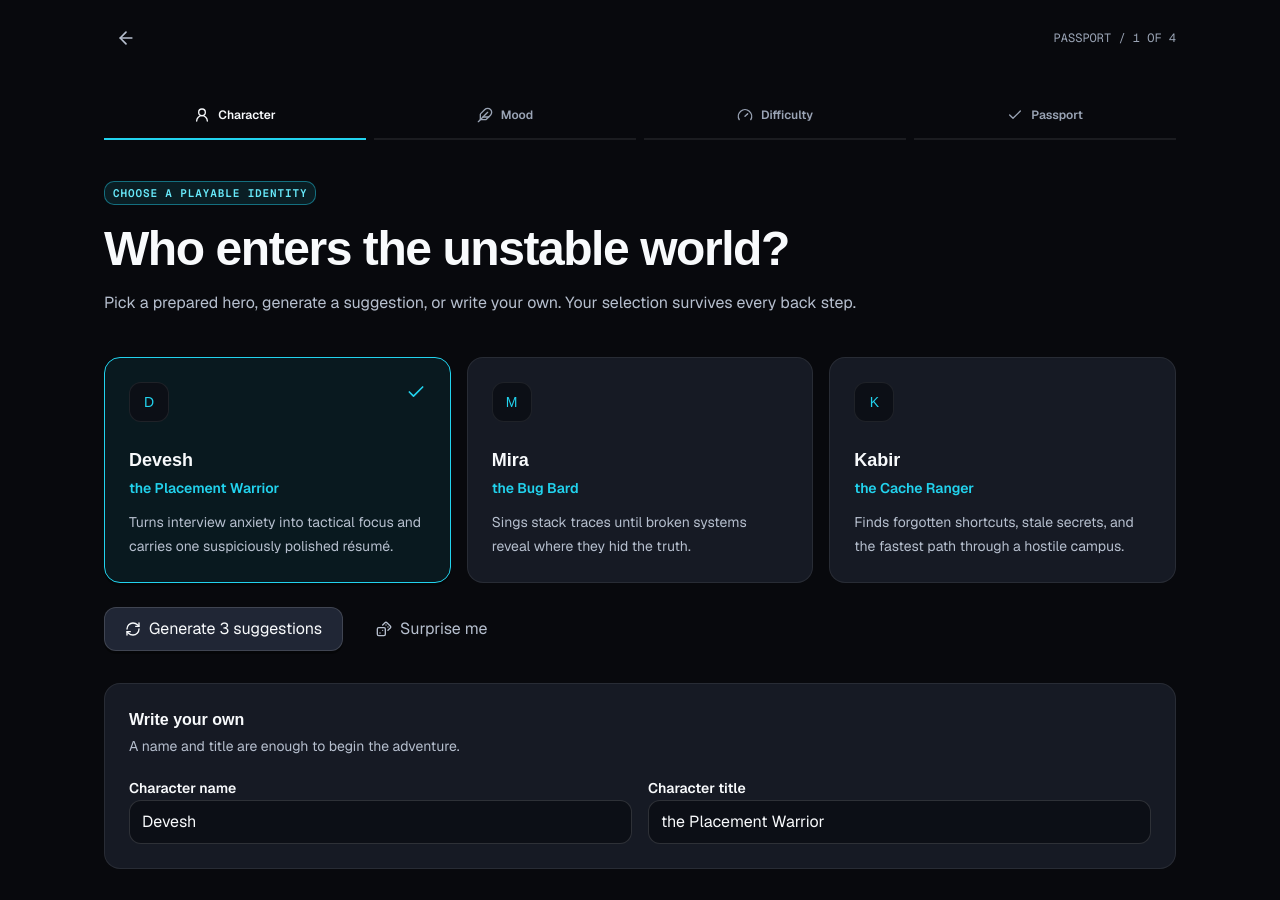
Scenario: CharacterCreator › validates custom character fields
Clear the field labelled "Character name" at (380, 822), box [129,800,632,844]
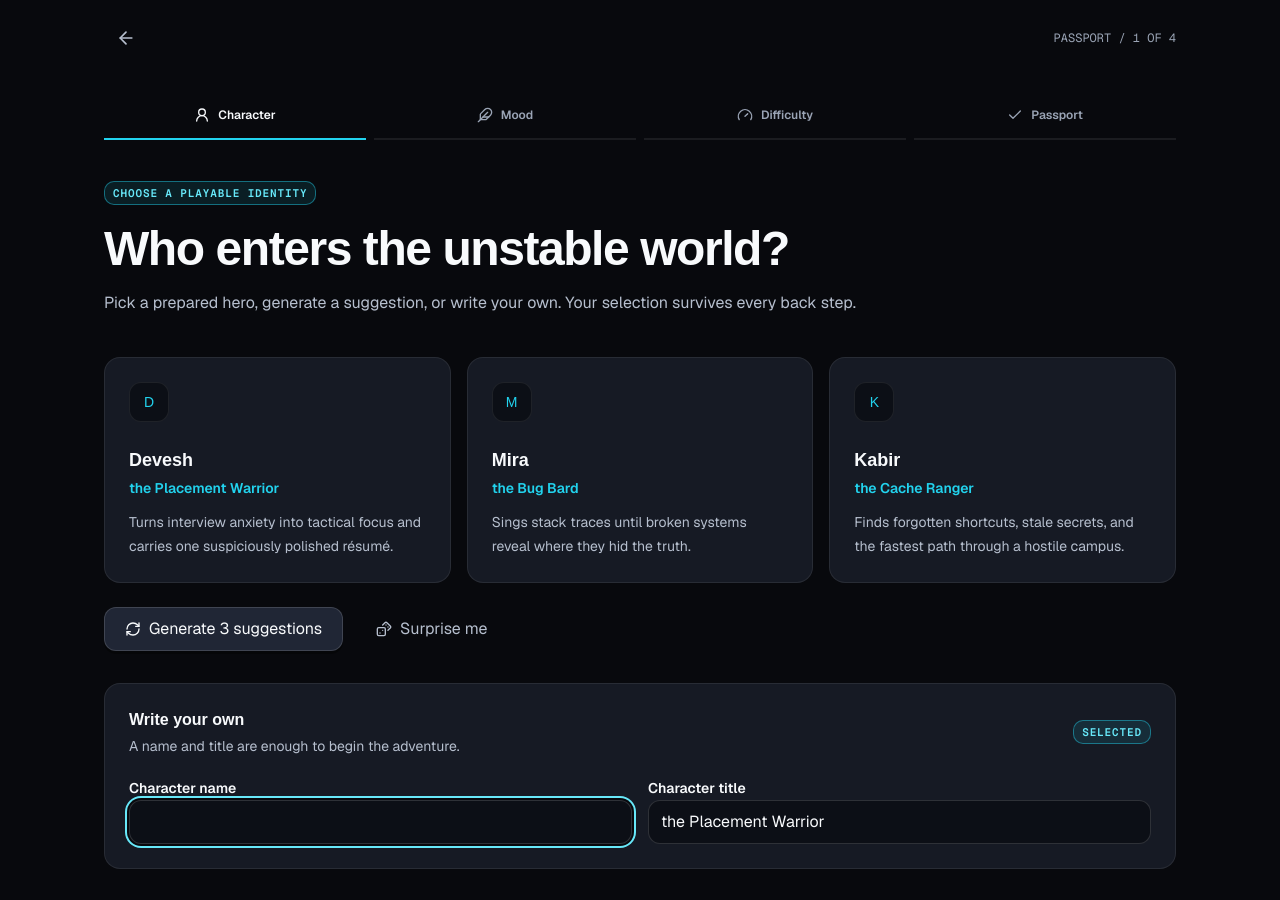
Clear the field labelled "Character title" at (900, 822), box [648,800,1151,844]
(page scrolled)
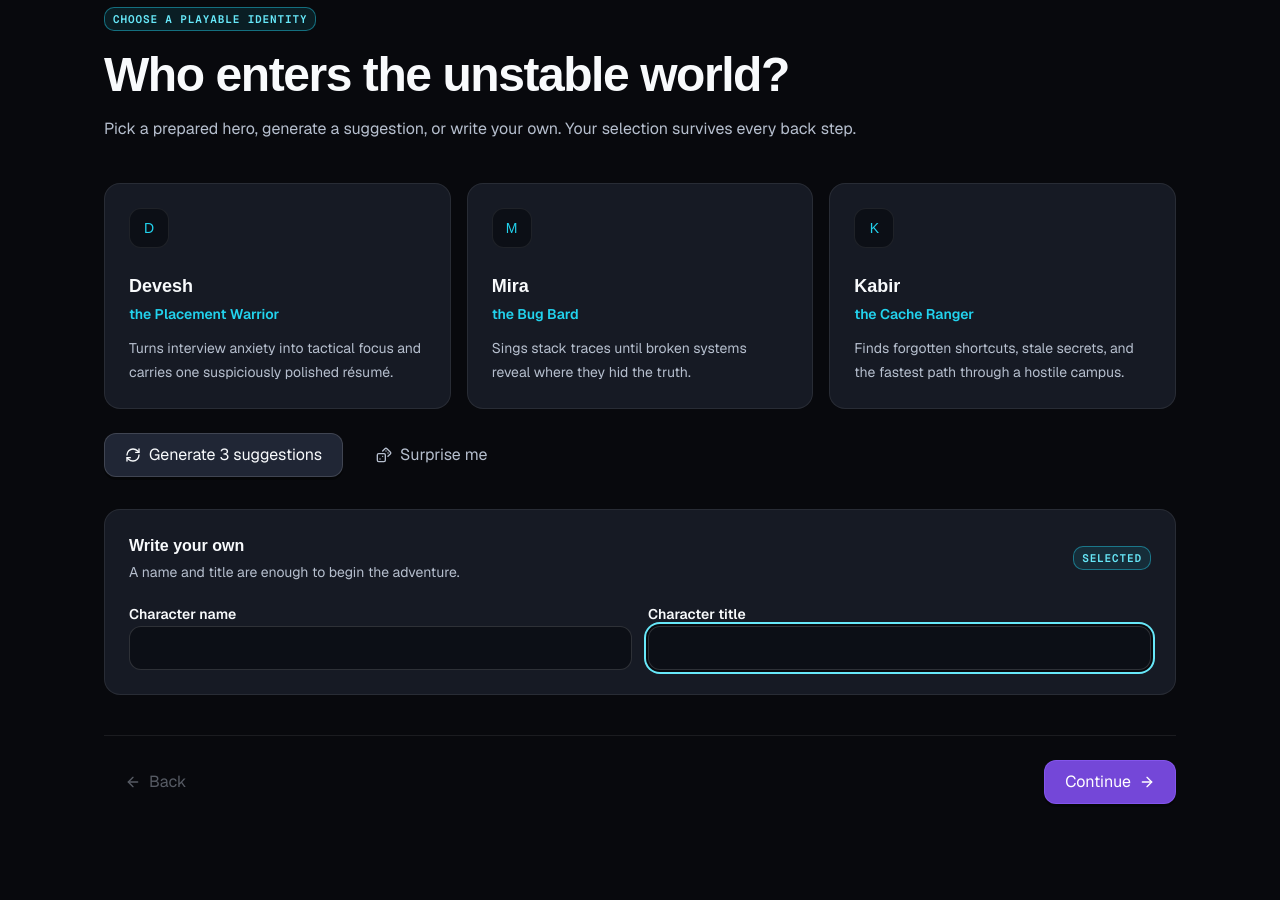
Click the button "Continue".
click(1110, 782)  # box [1044,760,1176,804]
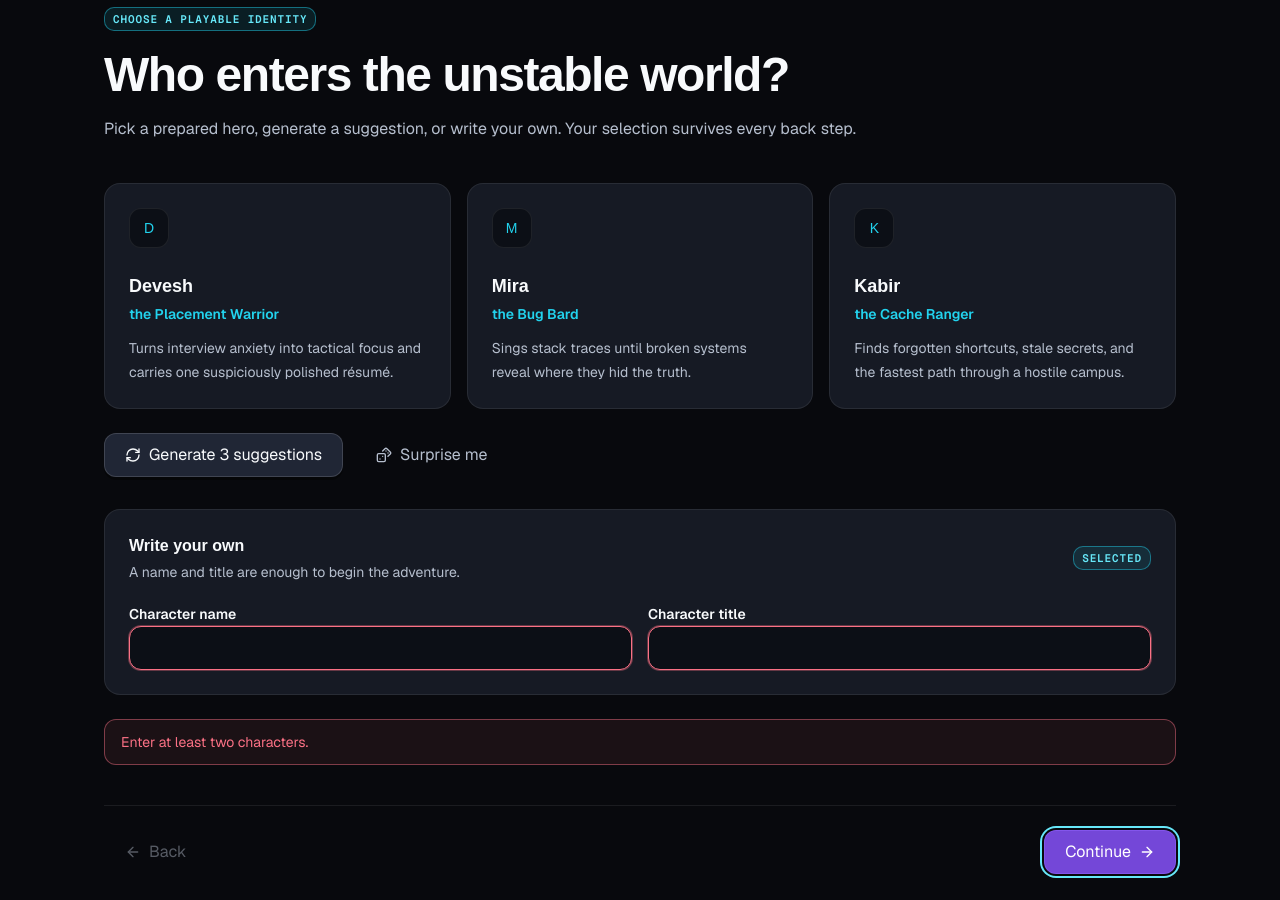
expect the heading "Who enters the unstable world?" is shown: met, box [104,51,872,99]
expect the message reads "Enter at least two characters.": met, box [121,733,308,751]
